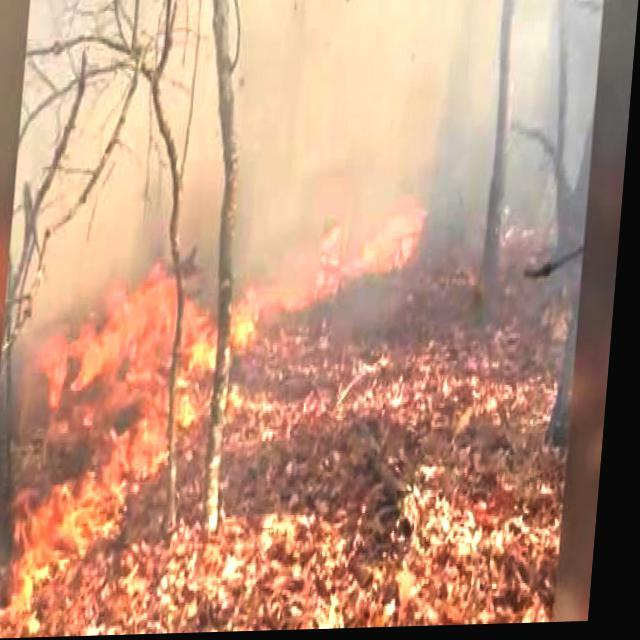Fire: (0, 204, 585, 632)
